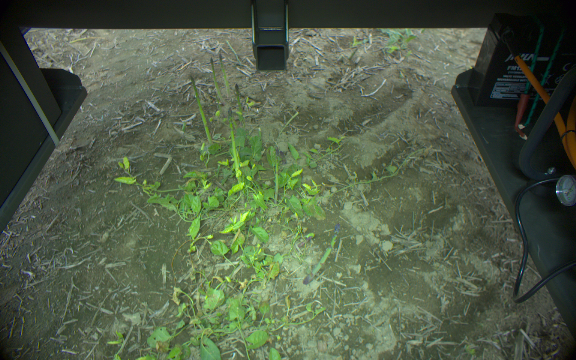aspa: (303, 223, 340, 286), (187, 73, 214, 147), (226, 104, 246, 189), (215, 46, 232, 99), (208, 57, 226, 105), (233, 84, 247, 131)
